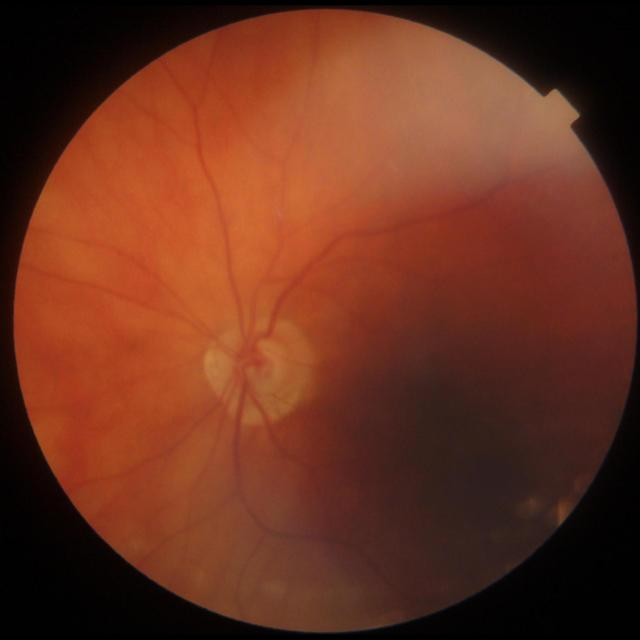OC: (247, 337, 288, 394)
OD: (202, 315, 313, 421)
